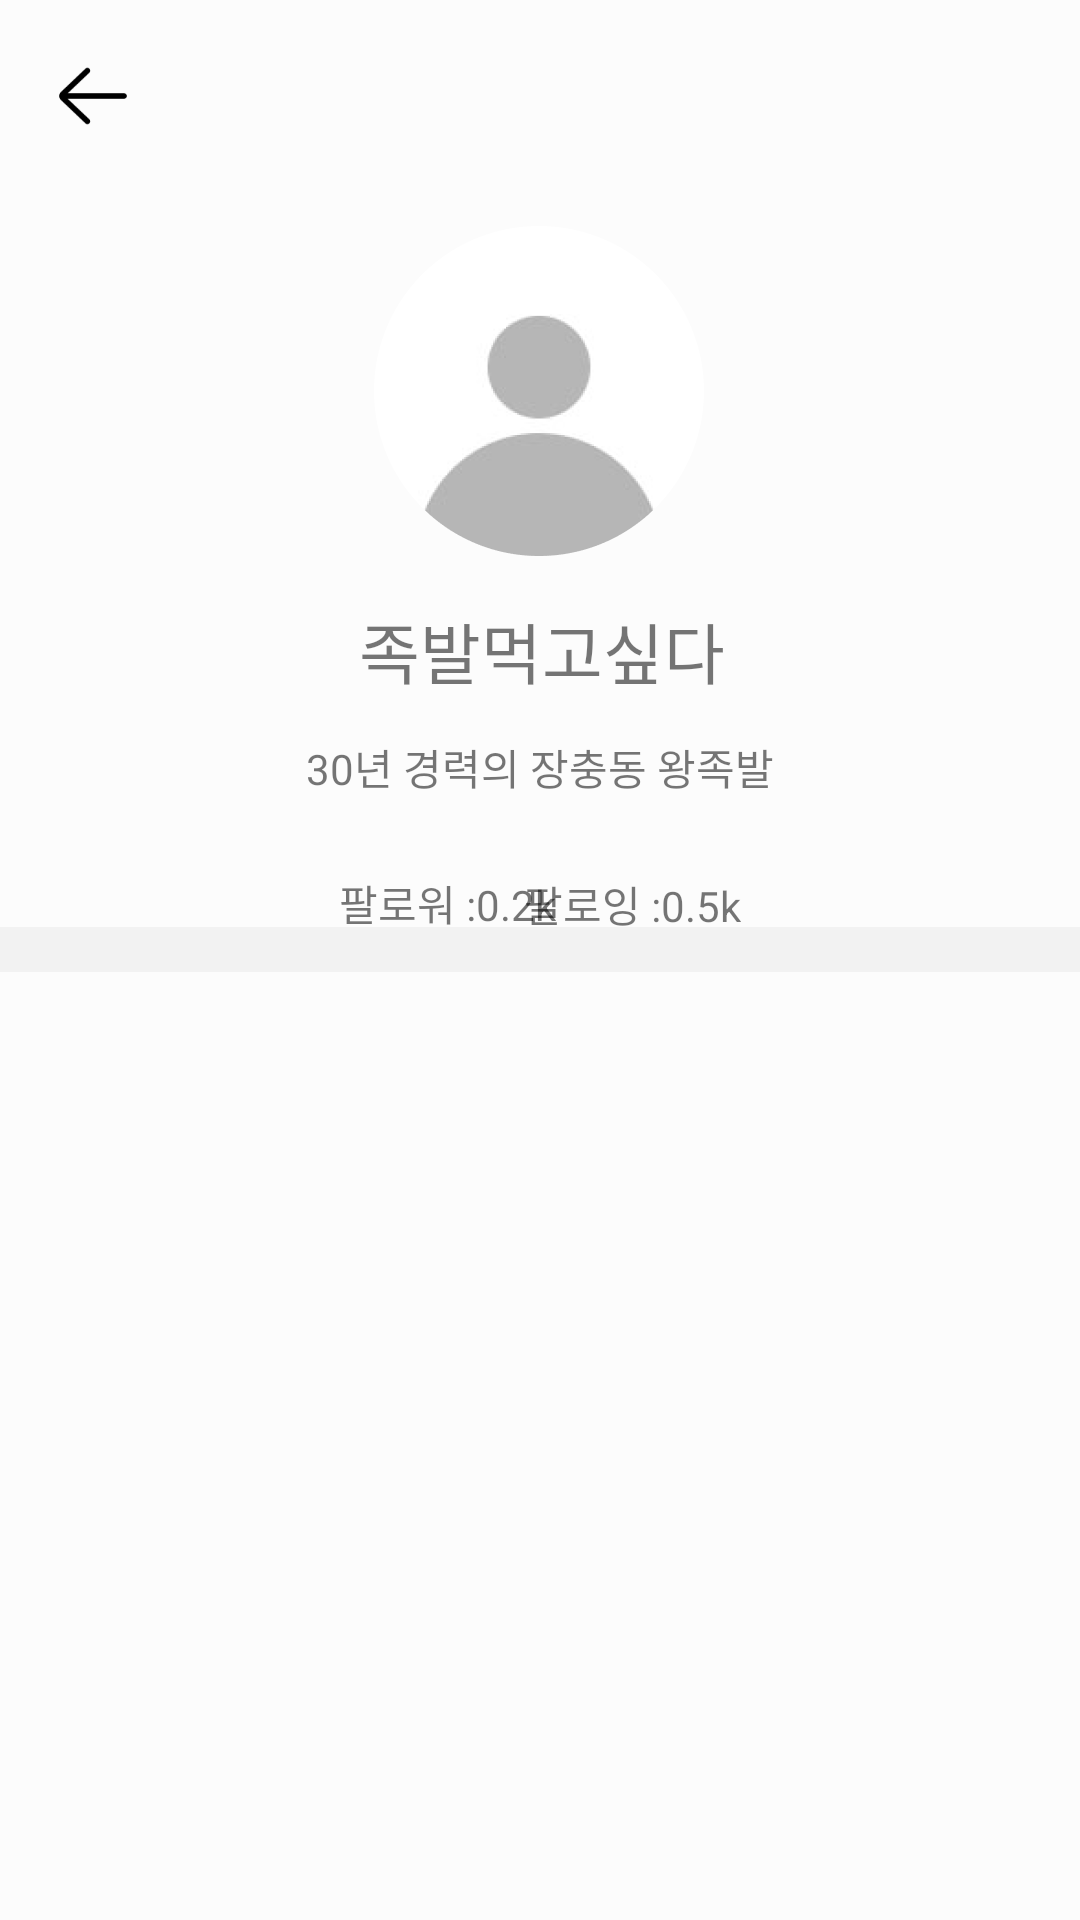

Icon click points for this 1080*1920 phone screenshot, format [x,y]:
left arrow: [93,96]
profile: [539,436]
